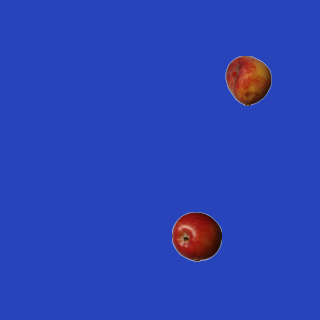Apple Braeburn: (171, 211, 221, 261)
Peach: (223, 55, 273, 105)
